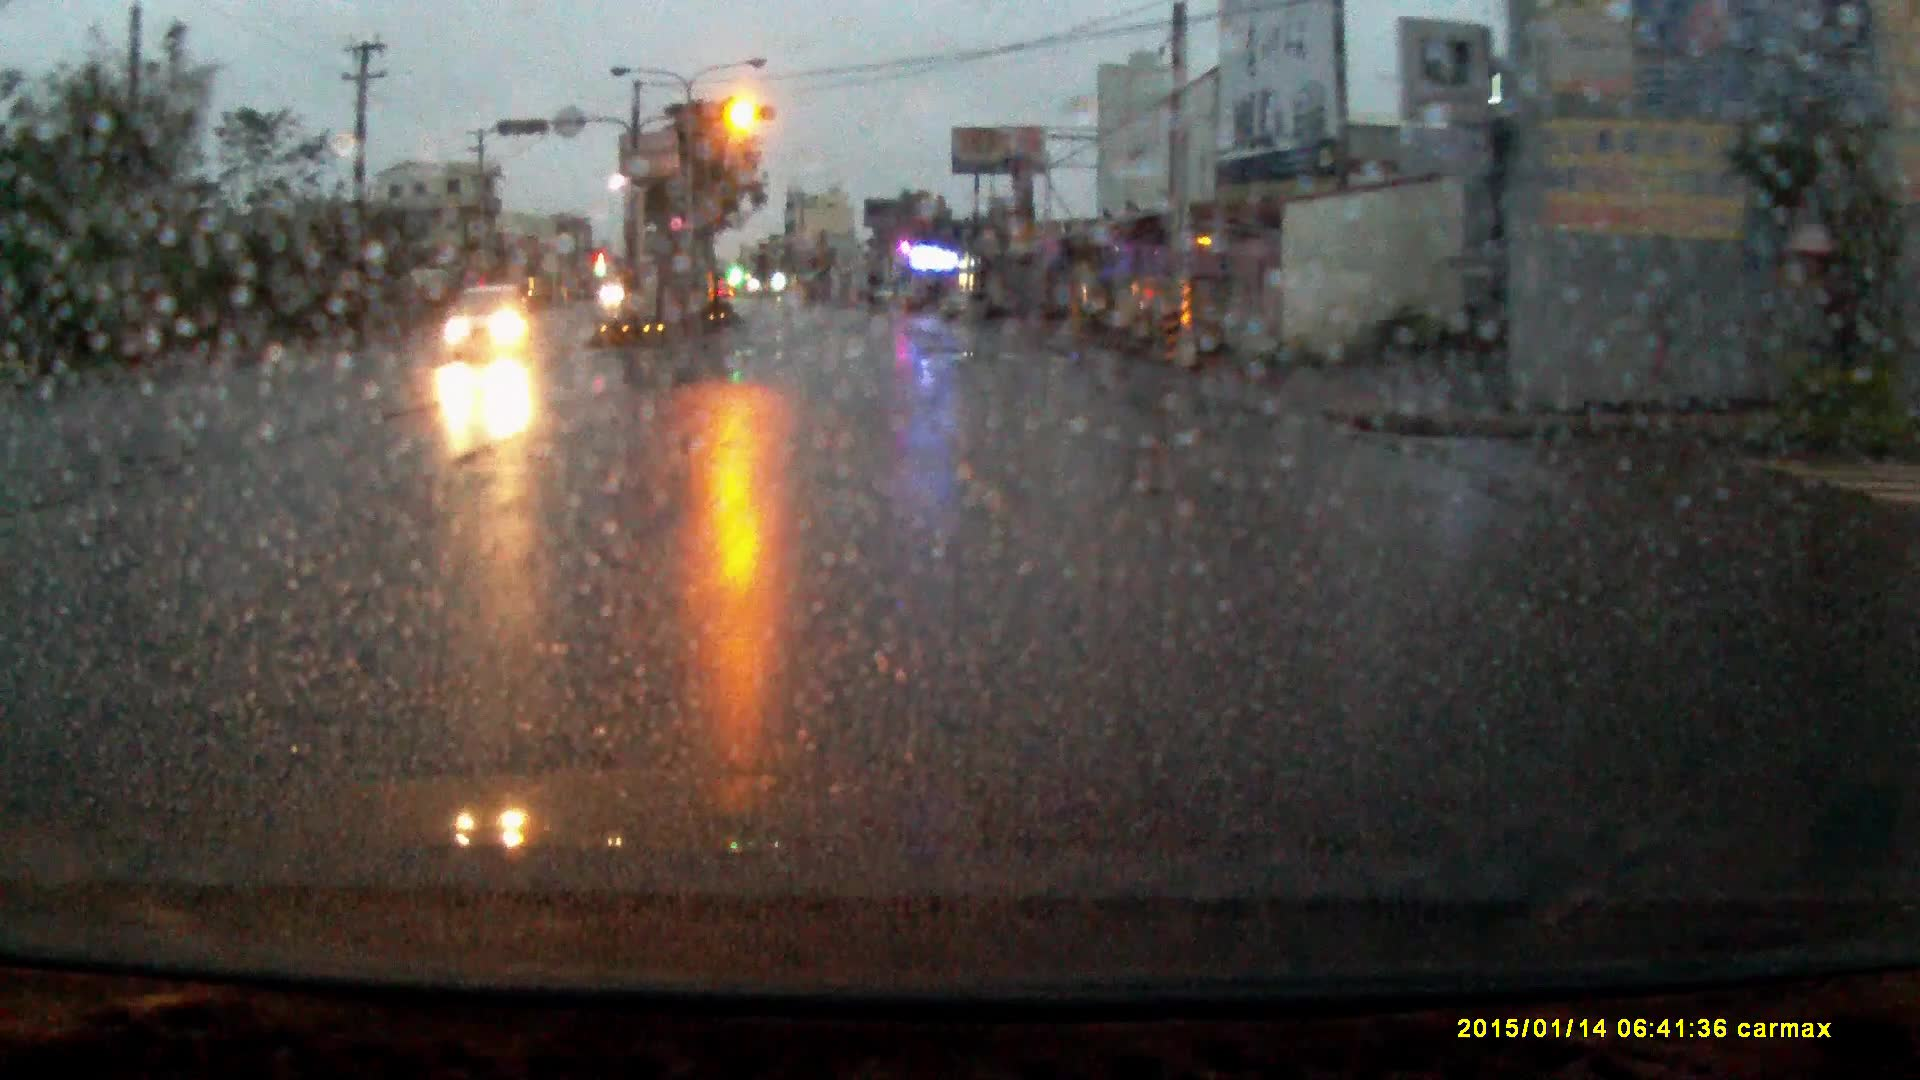vehicle: (443, 287, 537, 365)
